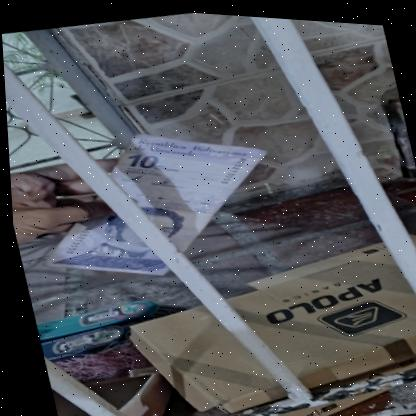vef_front: (132, 18, 327, 294)
